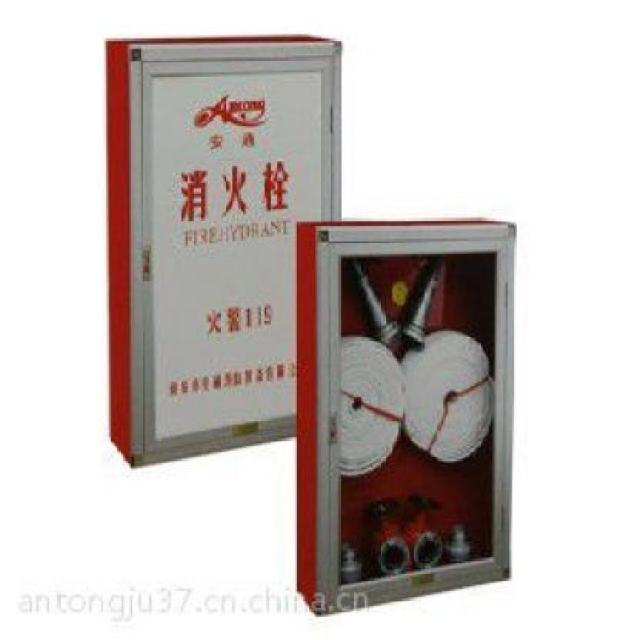firehydrant: (100, 31, 348, 475), (292, 212, 521, 626)
